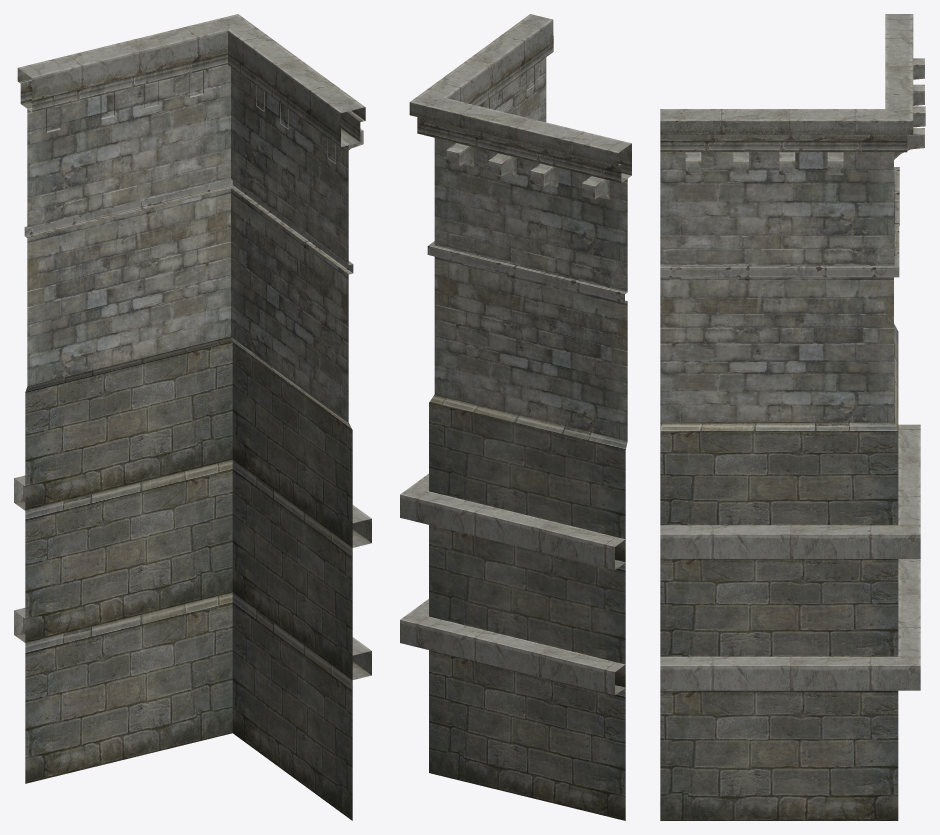
Rendered from bg_lut_lucastle_wall03_sm_lkj.FBX.
3 renders of one model, left to right at view 1: azimuth 30°, elevation 25°; view 2: azimuth 150°, elevation 25°; view 3: azimuth 270°, elevation 25°, orthographic. The views are drawn at different scales.
Visible parts, largest first — view 1: bg_lut_lucastle_wall03_sm_lkj; view 2: bg_lut_lucastle_wall03_sm_lkj; view 3: bg_lut_lucastle_wall03_sm_lkj.
Boxes of the visible parts, box(x1,y1,x2,y2) form: bg_lut_lucastle_wall03_sm_lkj: box(14, 14, 371, 820); bg_lut_lucastle_wall03_sm_lkj: box(400, 14, 631, 820); bg_lut_lucastle_wall03_sm_lkj: box(660, 14, 925, 820).
Bounding box in the file's own units: 454 × 1330 × 453.
